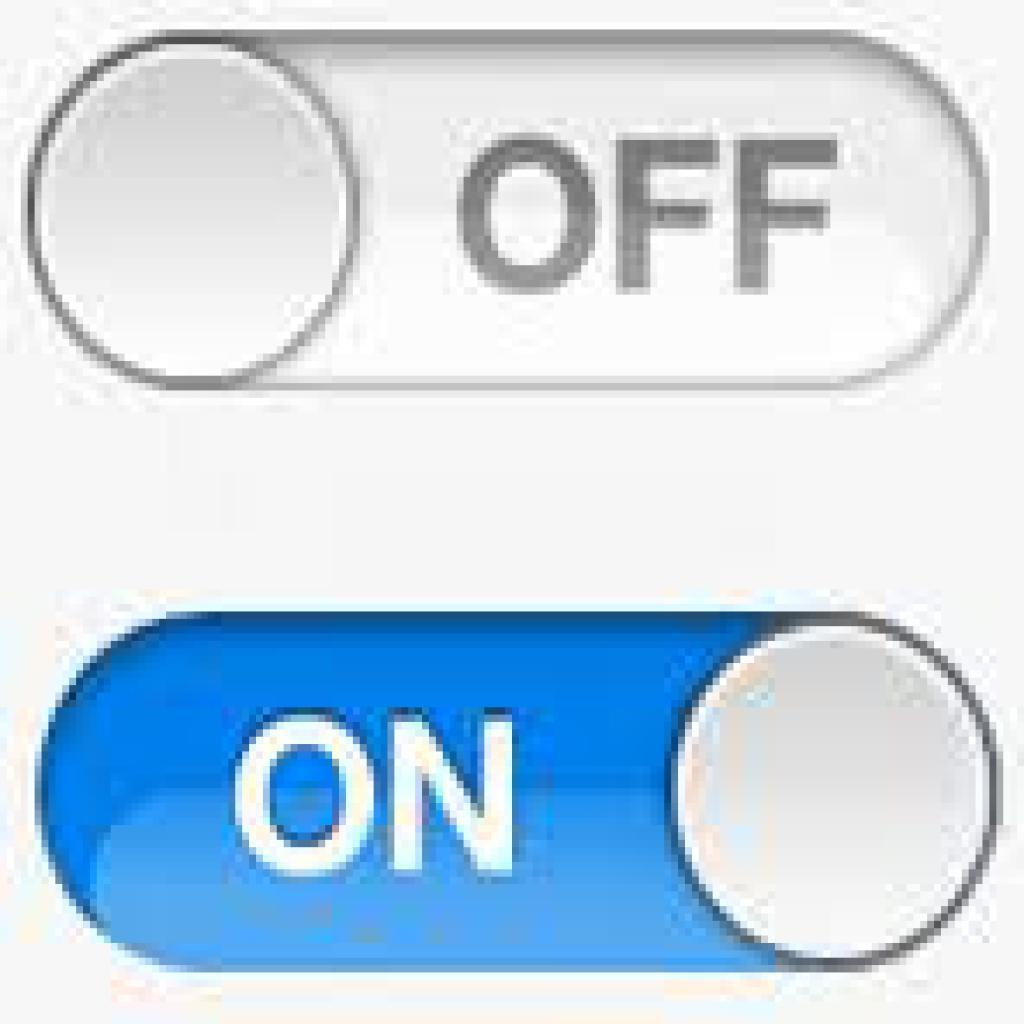switch: (20, 25, 991, 385), (40, 612, 1002, 972)
